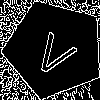V: (29, 24, 84, 80)
